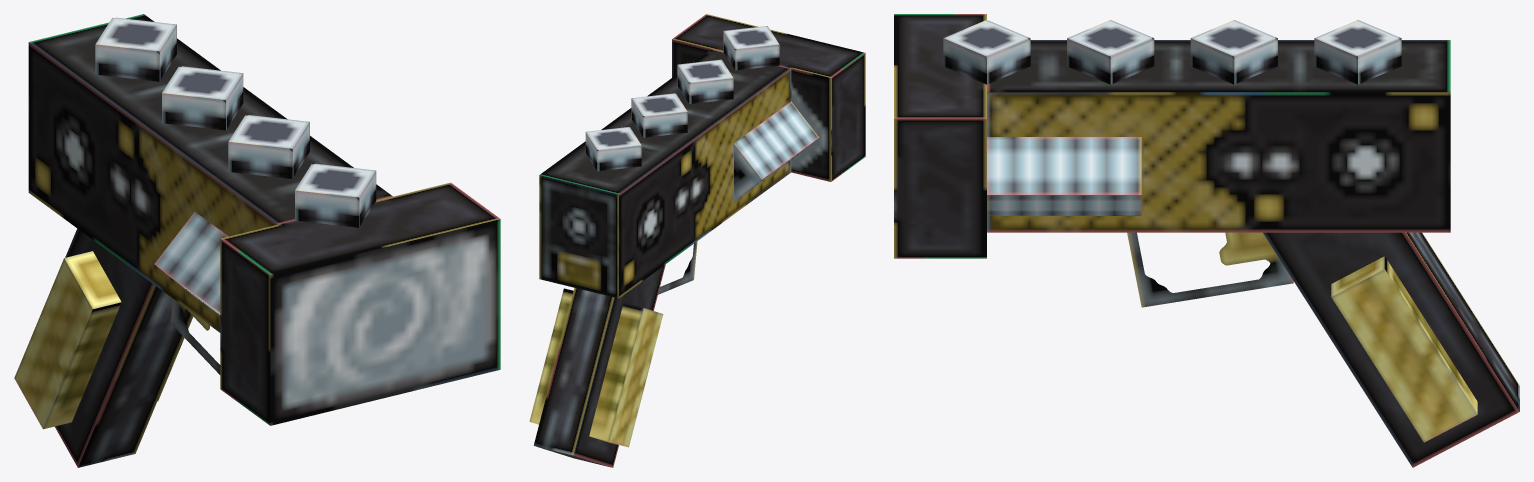
File: Pistol.fbx
The picture shows the model from 3 angles, left to right: view 1: azimuth 30°, elevation 25°; view 2: azimuth 150°, elevation 25°; view 3: azimuth 270°, elevation 25°; orthographic projection. The views are drawn at different scales.
Visible parts, largest first — view 1: BarrelEnd, Barrel, Handle, Grip, Piston_2, Piston_3, Piston, Piston_1, Pipe_1, Trigger; view 2: Barrel, BarrelEnd, Handle, Grip, Pipe_1, Piston, Piston_1, Piston_2, Piston_3, Trigger; view 3: Barrel, BarrelEnd, Handle, Grip, Pipe, Trigger, Piston_1, Piston, Piston_2, Piston_3.
Boxes of the visible parts, x1,y1,x2,y2 form: BarrelEnd: [220, 182, 500, 425]; Barrel: [28, 14, 392, 332]; Handle: [55, 228, 192, 467]; Grip: [14, 251, 193, 429]; Piston_2: [162, 66, 243, 130]; Piston_3: [95, 17, 176, 81]; Piston: [295, 163, 376, 227]; Piston_1: [228, 115, 309, 178]; Pipe_1: [154, 212, 228, 314]; Trigger: [170, 299, 220, 374]; Barrel: [539, 49, 791, 298]; BarrelEnd: [672, 14, 865, 181]; Handle: [533, 264, 665, 467]; Grip: [529, 288, 663, 447]; Pipe_1: [734, 101, 819, 201]; Piston: [723, 26, 779, 70]; Piston_1: [677, 59, 733, 103]; Piston_2: [631, 93, 687, 137]; Piston_3: [585, 127, 641, 171]; Trigger: [658, 241, 697, 294]; Barrel: [987, 40, 1450, 232]; BarrelEnd: [894, 14, 986, 258]; Handle: [1263, 232, 1519, 467]; Grip: [1331, 256, 1477, 442]; Pipe: [987, 137, 1141, 215]; Trigger: [1127, 232, 1293, 307]; Piston_1: [1067, 20, 1154, 84]; Piston: [943, 20, 1030, 84]; Piston_2: [1190, 20, 1277, 84]; Piston_3: [1314, 20, 1401, 84].
Size of the model in its own units: 50 by 92.91 by 126.
1 material, 1 textured.
